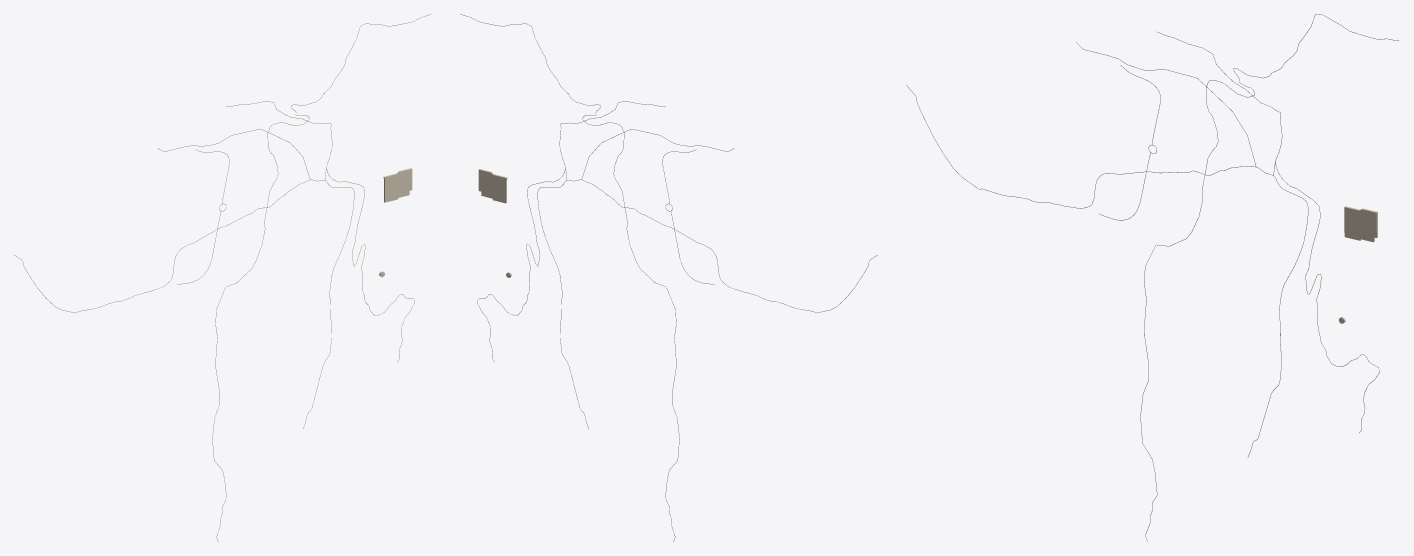
Rendered from historic-palestine-10_33_3523_3278.glb.
3 renders of one model, left to right at view 1: azimuth 30°, elevation 25°; view 2: azimuth 150°, elevation 25°; view 3: azimuth 330°, elevation 25°, orthographic. The views are drawn at different scales.
Parts seen in each view (by area): view 1: Building_, Road; view 2: Building_, Road; view 3: Building_, Road.
Boxes of the visible parts, left/top/right/bottom form: Building_: left=383, top=168, right=412, bottom=202; Road: left=14, top=179, right=354, bottom=428; Building_: left=478, top=169, right=507, bottom=203; Road: left=537, top=179, right=877, bottom=428; Building_: left=1344, top=206, right=1377, bottom=242; Road: left=906, top=85, right=1308, bottom=457.
Bounding box in the file's own units: 1809 × 1999 × 8.7.
